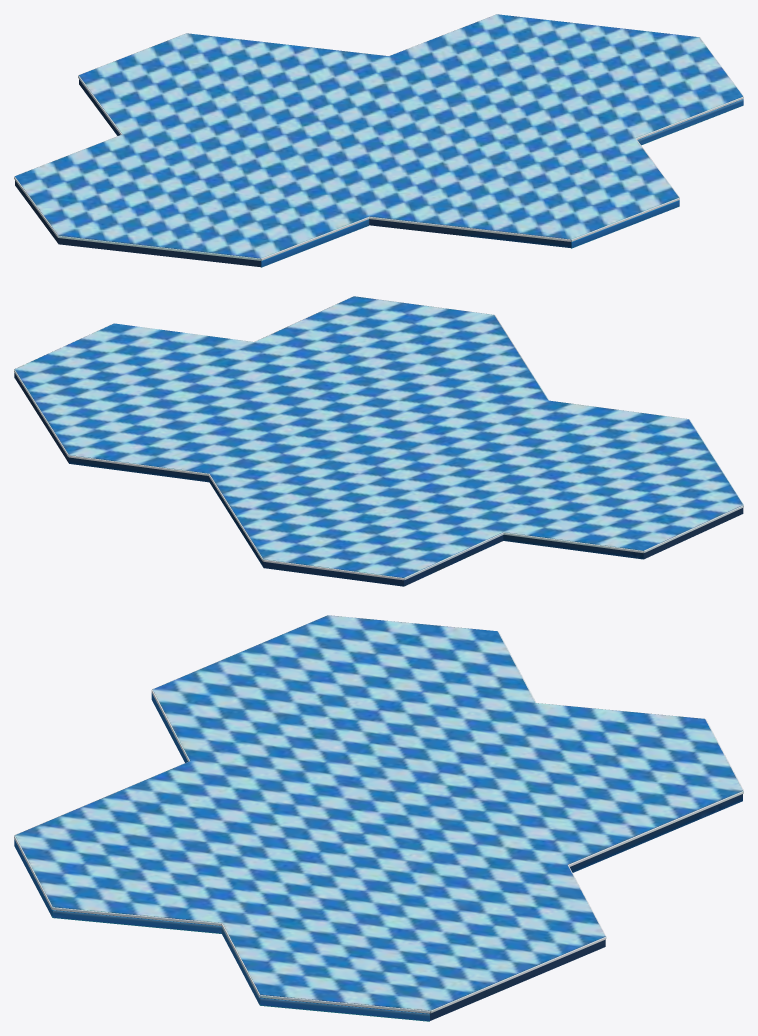
The model's file is field_cm28_01.glb.
3 renders of one model, top to bottom at view 1: azimuth 30°, elevation 25°; view 2: azimuth 150°, elevation 25°; view 3: azimuth 270°, elevation 25°, orthographic. The views are drawn at different scales.
Visible parts, largest first — view 1: field_cm28_01-runtime-static; view 2: field_cm28_01-runtime-static; view 3: field_cm28_01-runtime-static.
Part boxes in pixels (left/top/right/bottom): field_cm28_01-runtime-static: left=14, top=14, right=743, bottom=267; field_cm28_01-runtime-static: left=14, top=296, right=743, bottom=586; field_cm28_01-runtime-static: left=14, top=615, right=743, bottom=1021.
Size of the model in its own units: 19.17 by 0.2481 by 14.93.
Materials: 1 (1 with a texture image).
